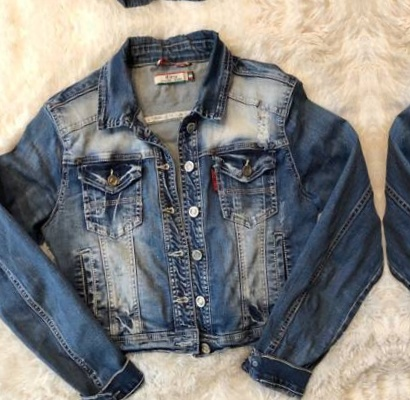Blazer: (0, 16, 393, 400), (367, 0, 410, 381), (0, 0, 356, 22), (406, 389, 410, 400)
